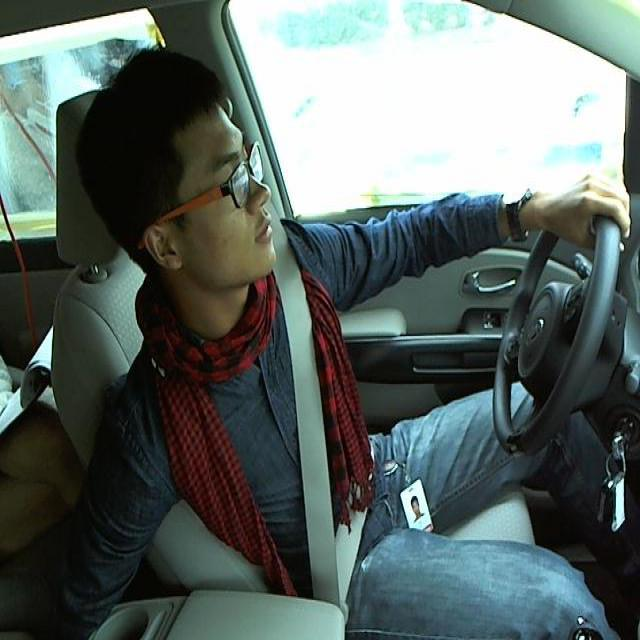seatbelt: (278, 272, 395, 609)
